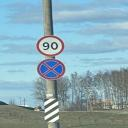speed_limit_90: (35, 35, 64, 56)
